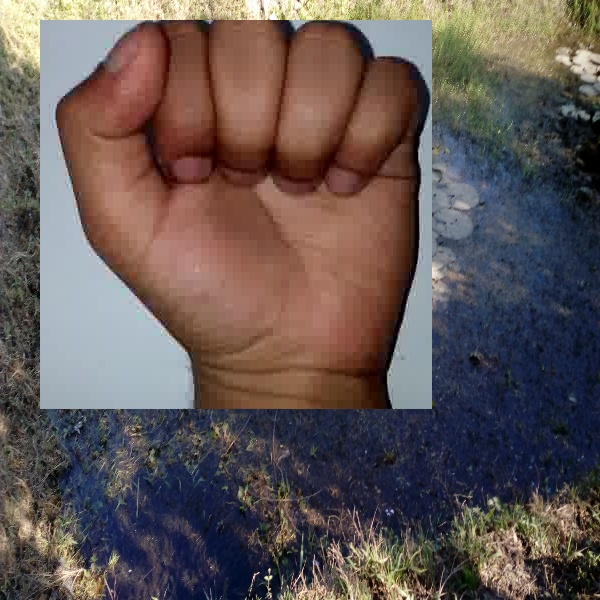A: (40, 20, 432, 409)
